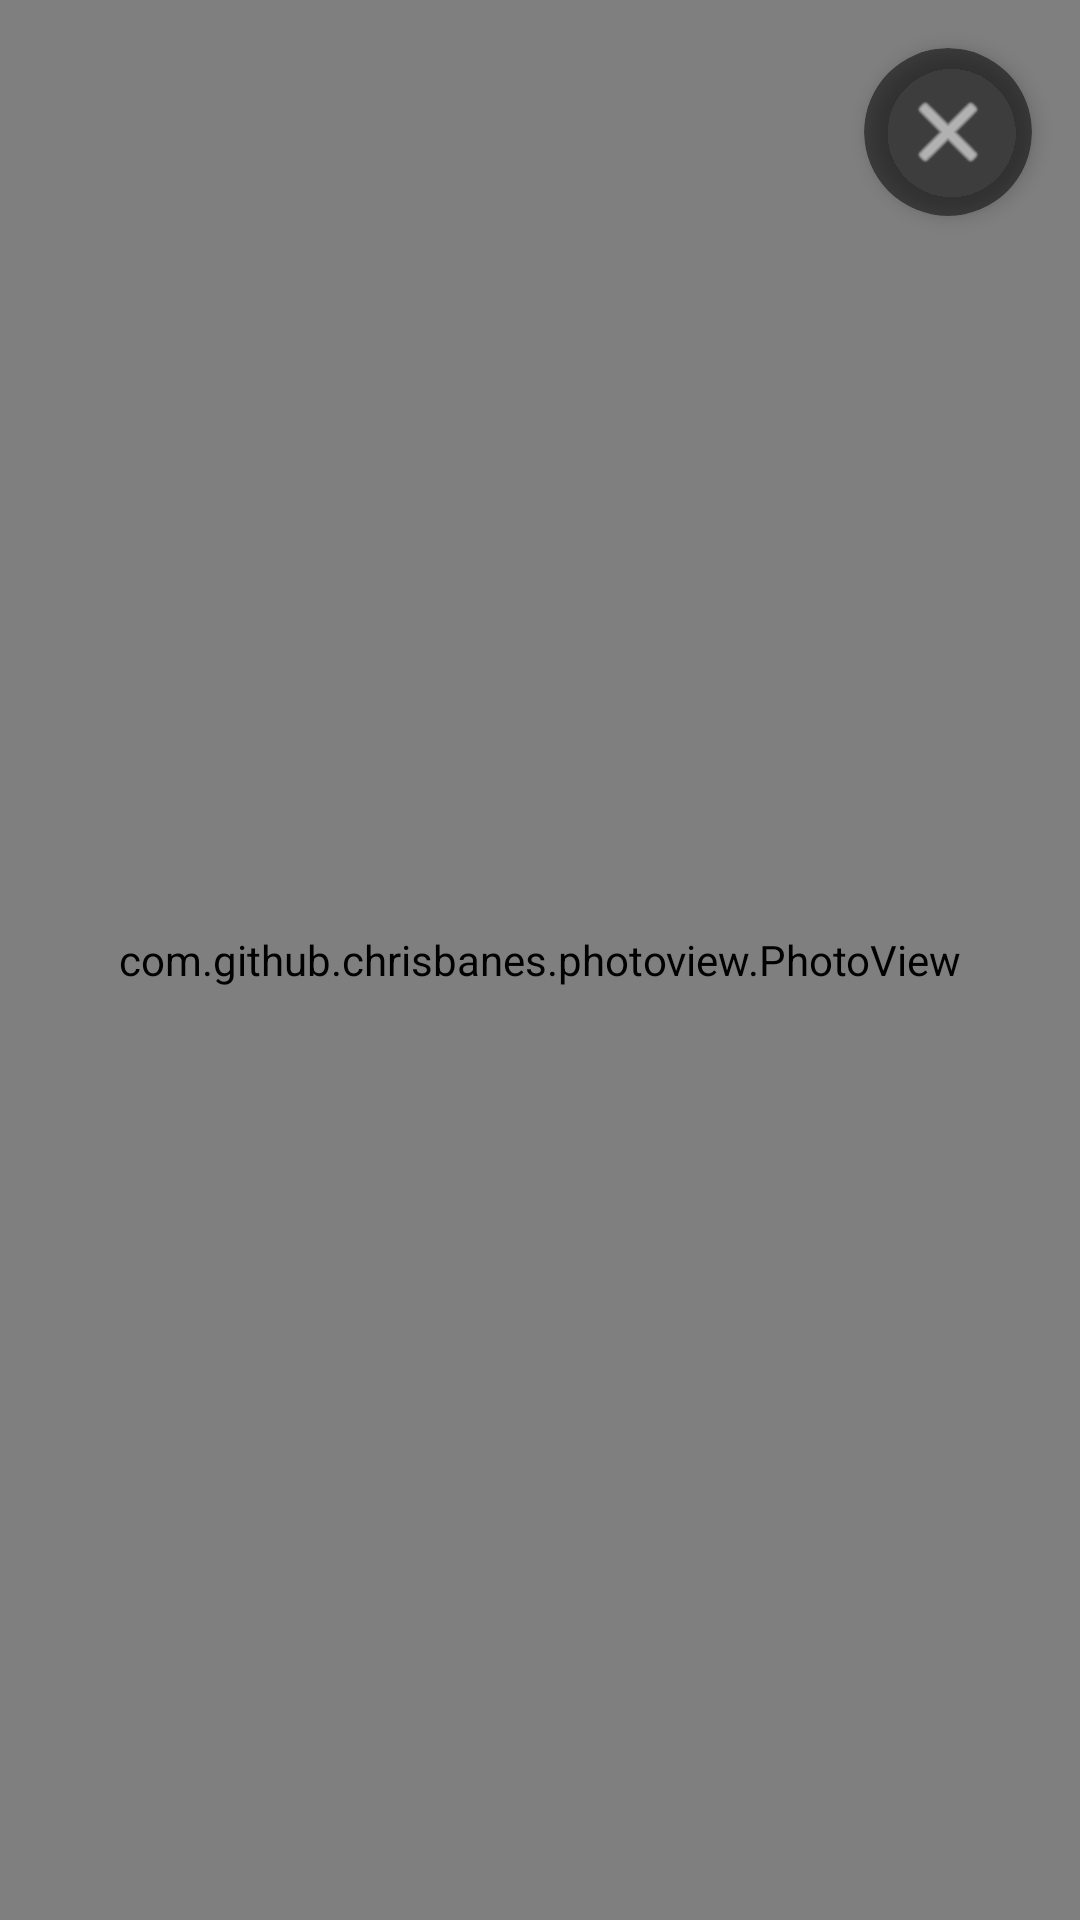

Icon click points for this 1080x1920 phone screenshot, format (x=x, y=y):
Close: (x=948, y=132)
